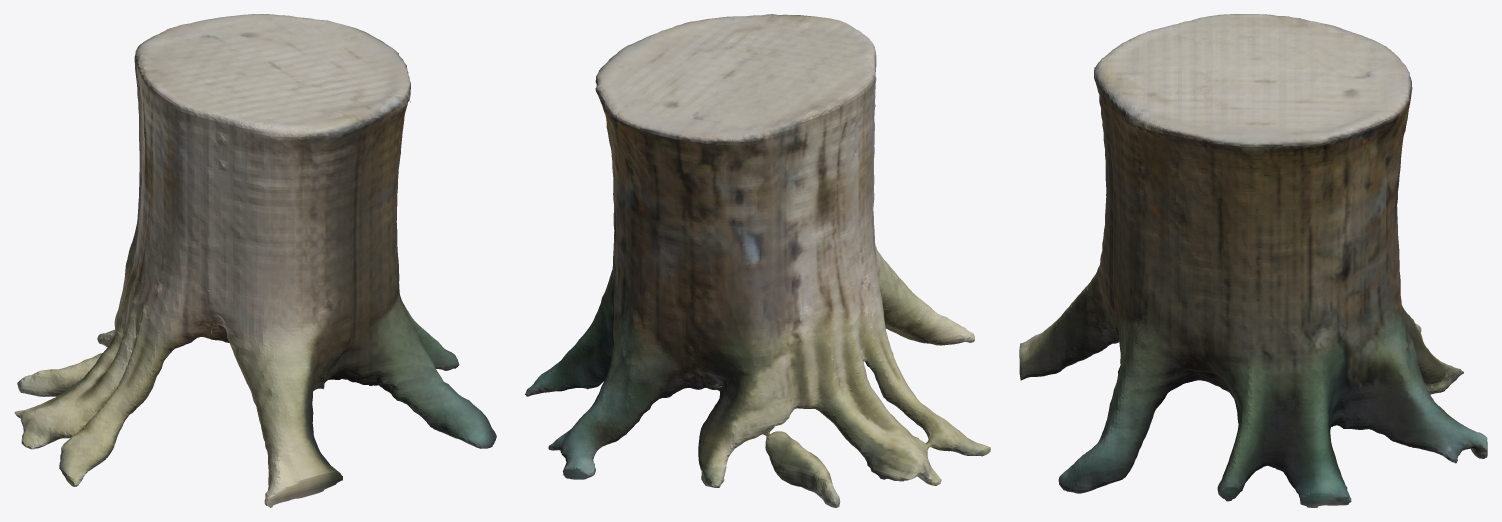
File: full.glb
3 views of the same model, side by side, from view 1: azimuth 30°, elevation 25°; view 2: azimuth 150°, elevation 25°; view 3: azimuth 270°, elevation 25° (orthographic). The views are drawn at different scales.
Parts seen in each view (by area): view 1: world; view 2: world; view 3: world.
Part boxes in pixels (bbox=[...]): world: bbox=[14, 14, 496, 507]; world: bbox=[525, 14, 990, 507]; world: bbox=[1019, 14, 1487, 507].
Bounding box in the file's own units: 1.98 × 1.69 × 1.98.
